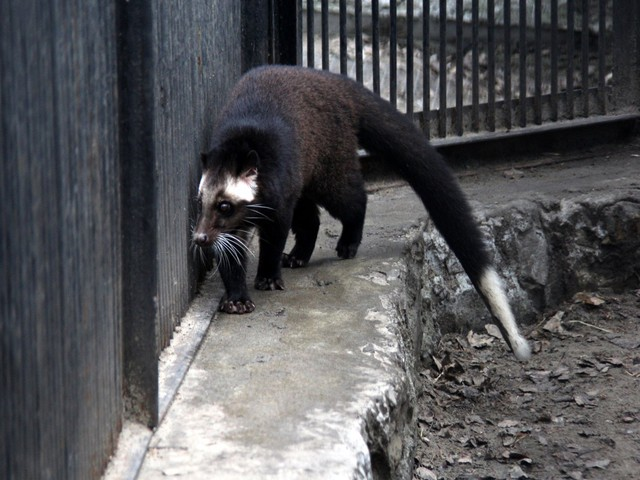civet: (188, 63, 532, 363)
